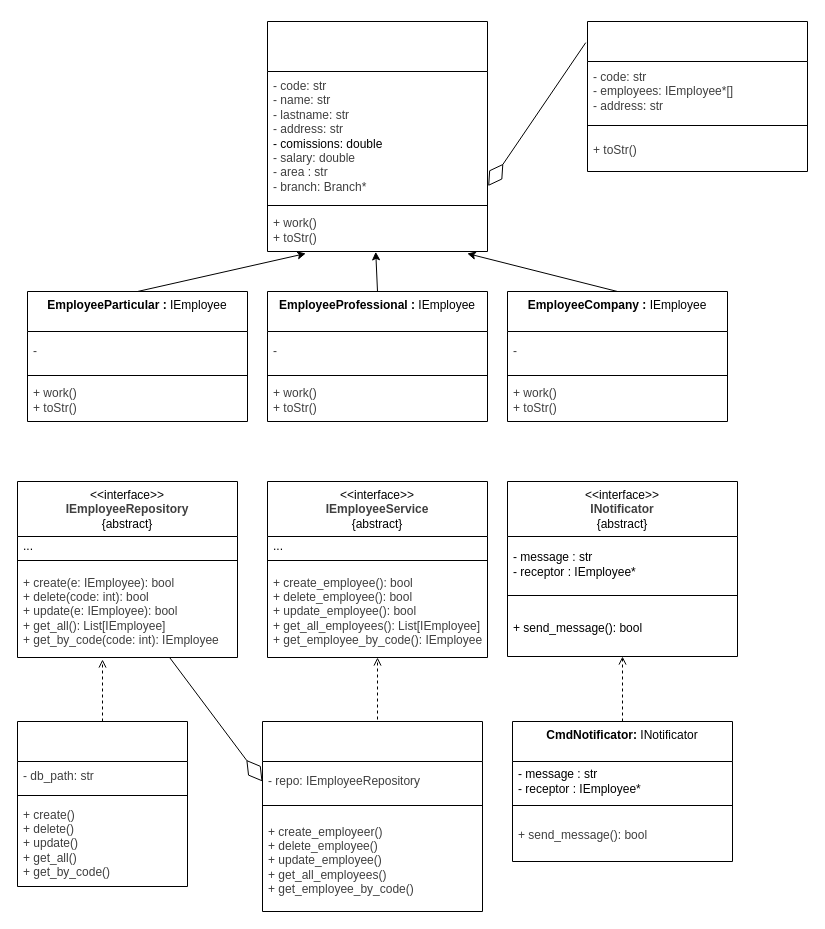
This 825x929 diagram has some shape labels left out. The box of each missing label's shape, as (x1, y1, x2, y2) in pixels:
Branch: (586, 20, 808, 172)
EmployeeService: IEmployeeService: (262, 720, 482, 912)
IEmployee {abstract}: (266, 20, 488, 252)
TextEmployeeRepository: IEmployeeRepository: (16, 720, 188, 886)
